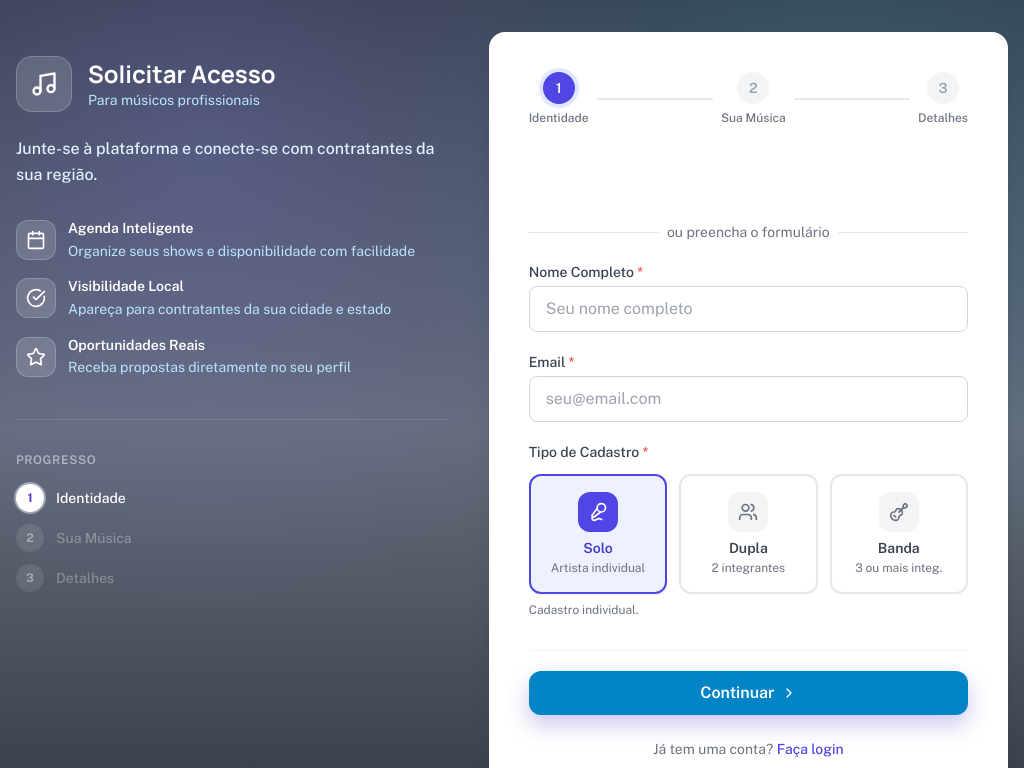
Test case: MusicianRequest Page — Wizard › step 2 shows instrumento and gêneros fields after advancing
In the field with placeholder "Seu nome completo": point(748, 309) [529, 286, 968, 332], type "João Silva"
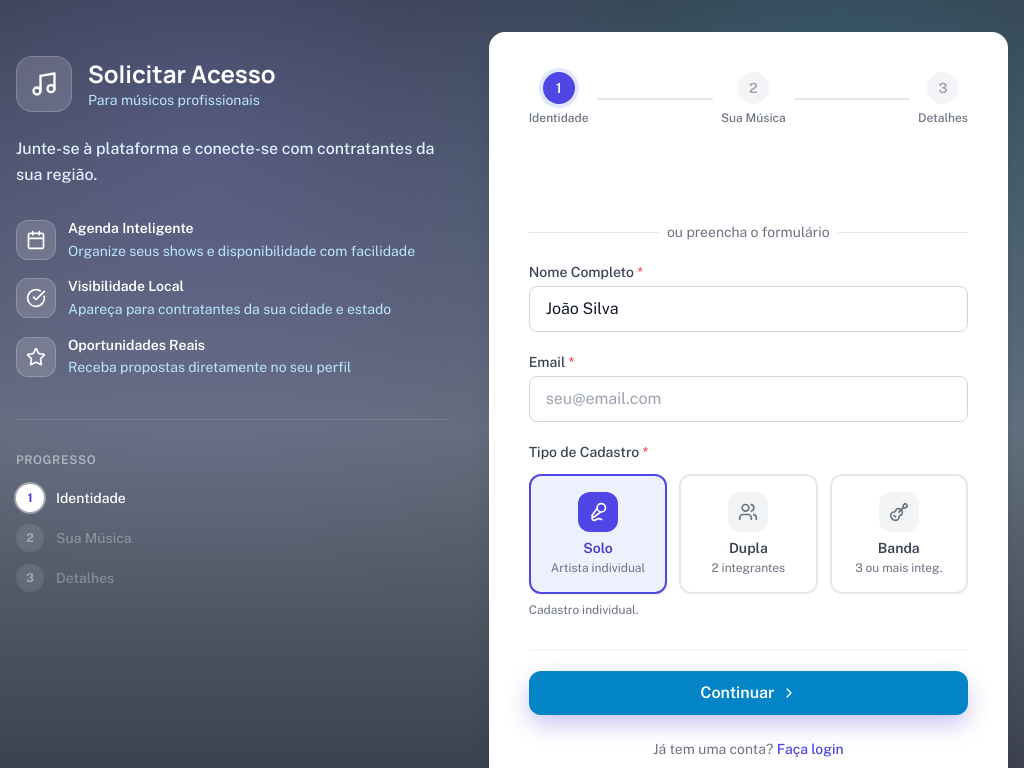
In the field with placeholder "seu@email.com": point(748, 399) [529, 376, 968, 422], type "joao@teste.com"
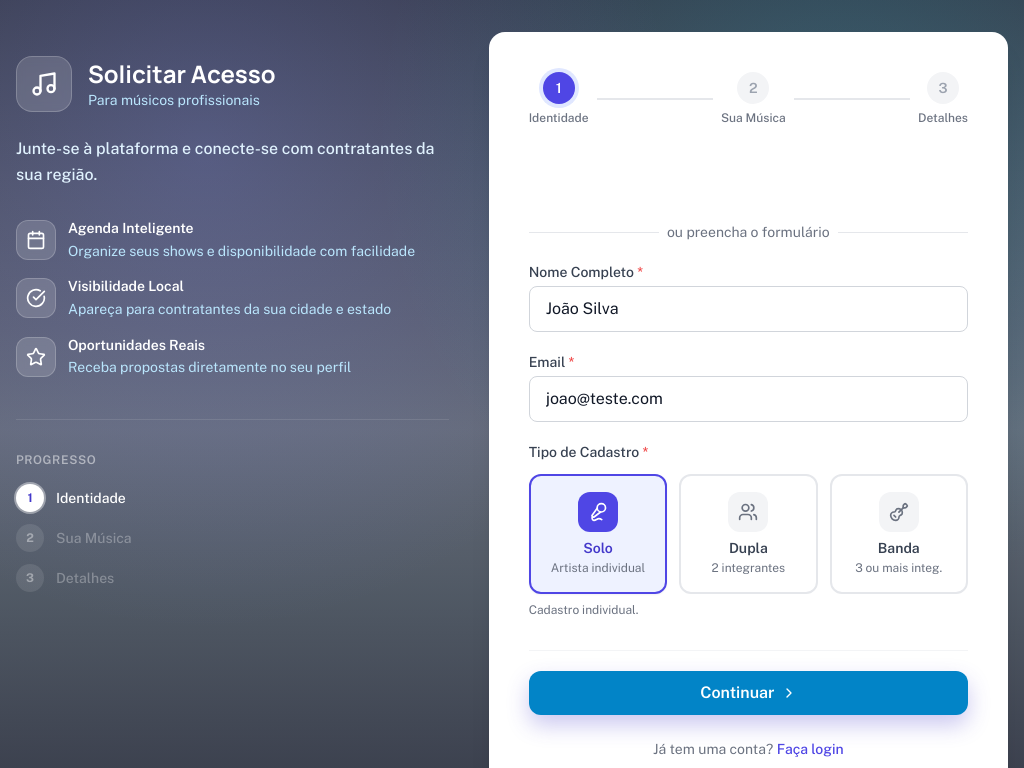
Click the button "Continuar": point(748, 692) [529, 670, 968, 714]
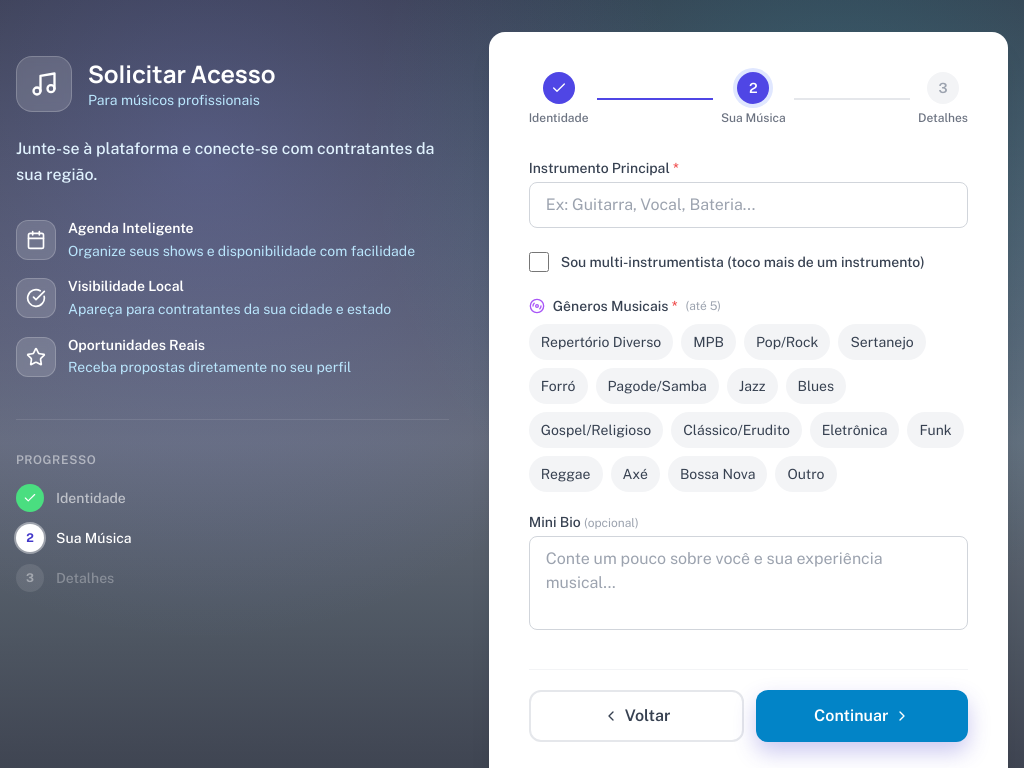
Expected: the field with placeholder "Ex: Guitarra, Vocal, Bateria..." is shown, [529, 182, 968, 228]
